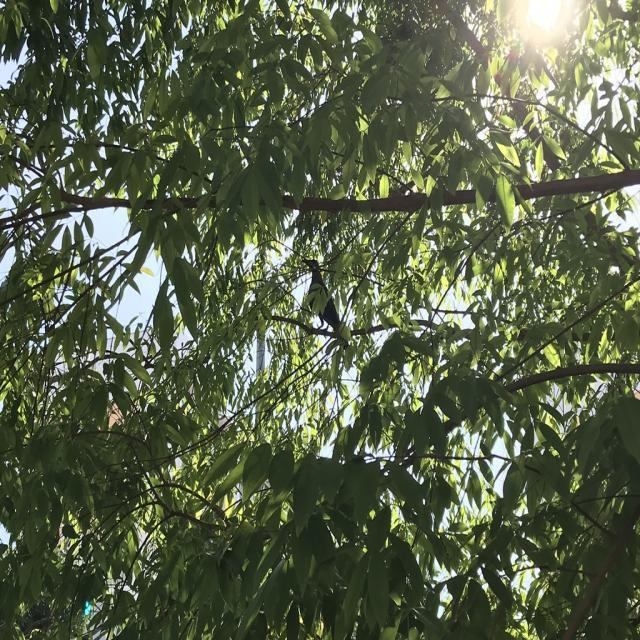bird: (300, 254, 352, 353)
